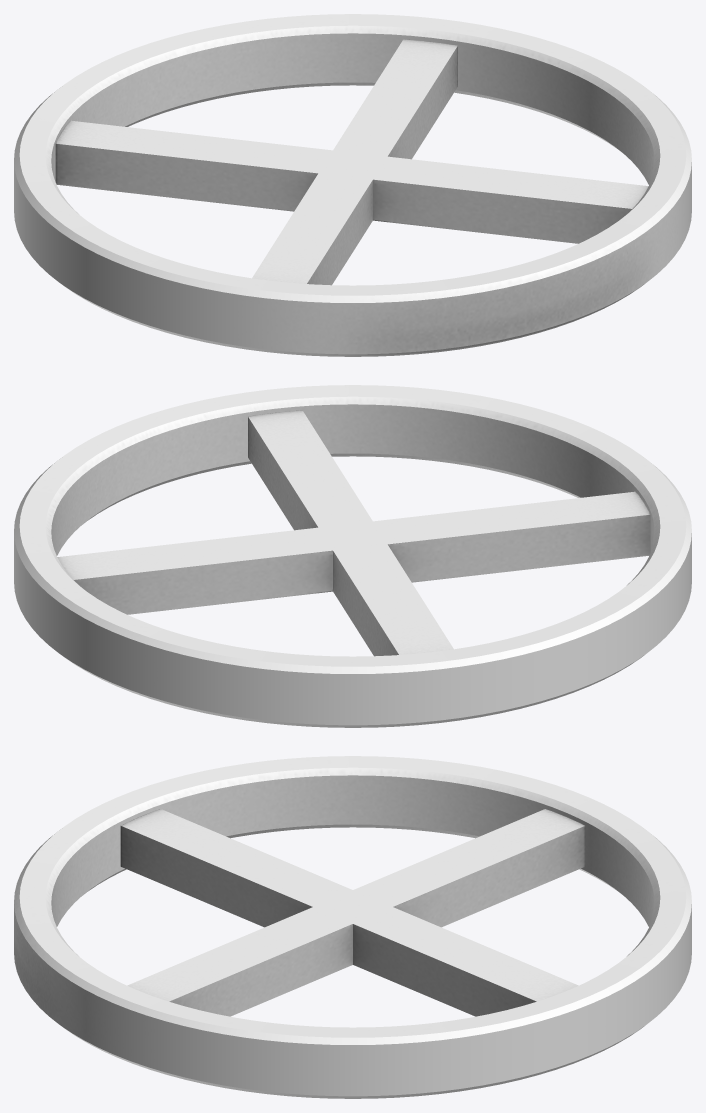
File: vrteleportinvalid.gltf
3 renders of one model, top to bottom at view 1: azimuth 30°, elevation 25°; view 2: azimuth 150°, elevation 25°; view 3: azimuth 270°, elevation 25°, orthographic.
Visible parts, largest first — view 1: VRTeleportInvalid; view 2: VRTeleportInvalid; view 3: VRTeleportInvalid.
Boxes of the visible parts, x1,y1,x2,y2 form: VRTeleportInvalid: (14, 14, 691, 356); VRTeleportInvalid: (14, 385, 691, 727); VRTeleportInvalid: (14, 756, 691, 1098).
Bounding box in the file's own units: 0.6 × 0.0597 × 0.6.
